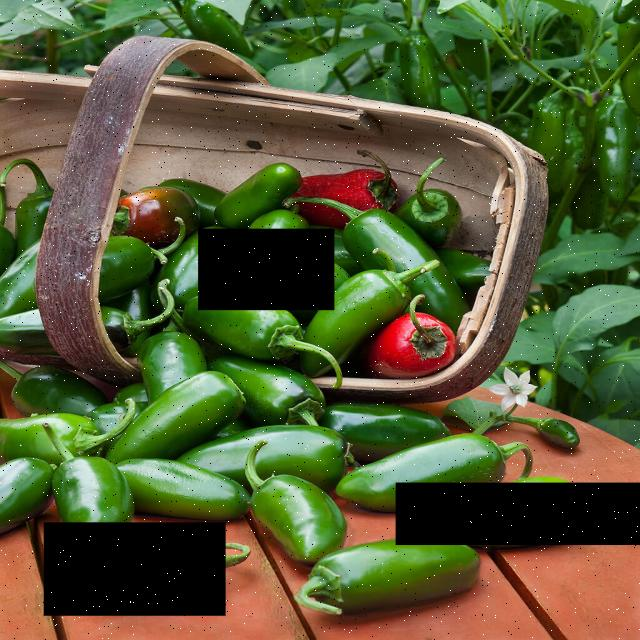Chili_Pepper: (44, 523, 226, 616), (395, 482, 640, 545), (199, 229, 335, 310)
